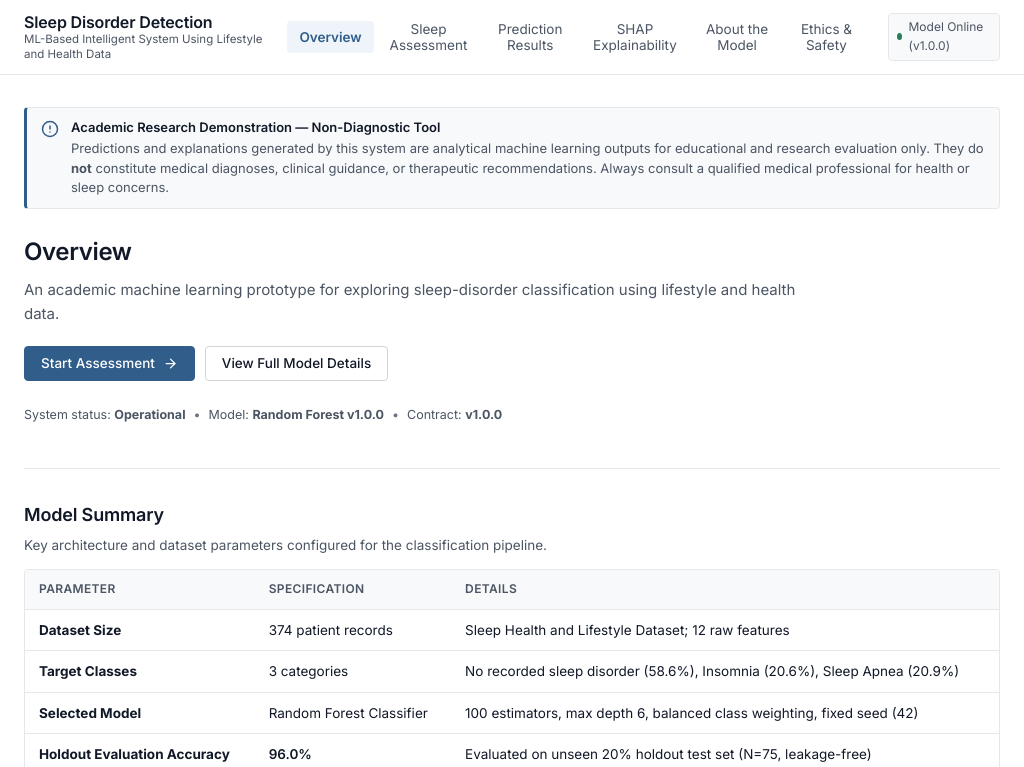
App Full Integration Tests › renders branding and navigates across all tabs smoothly
Expected: the heading "Sleep Disorder Detection" is shown, 24,12 -> 212,32
Expected: the text "ML-Based Intelligent System Using Lifestyle and Health Data" is shown, 24,32 -> 267,62
Test Navigation to Sleep Assessment Tab
Click the button "Sleep Assessment" at coordinates (428, 37), box 378,13 -> 479,61
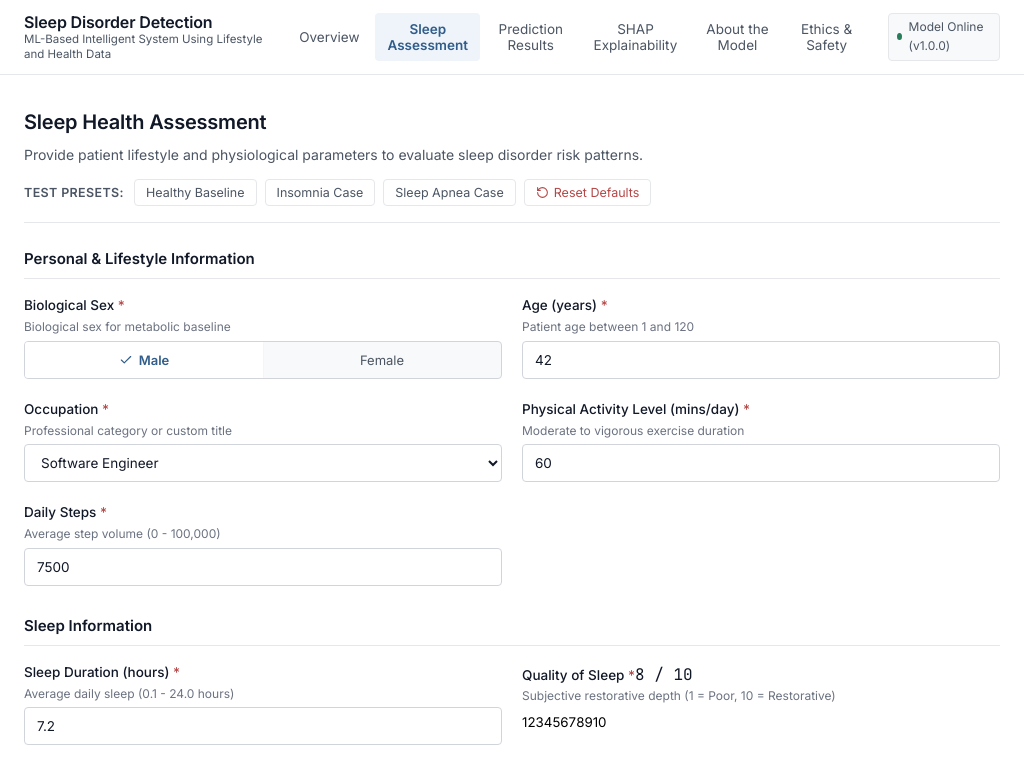
Now the heading "Sleep Health Assessment" is shown, box 24,110 -> 266,134
Test Navigation to About Model Tab
Click the button "About the Model" at coordinates (737, 37), box 693,13 -> 782,61
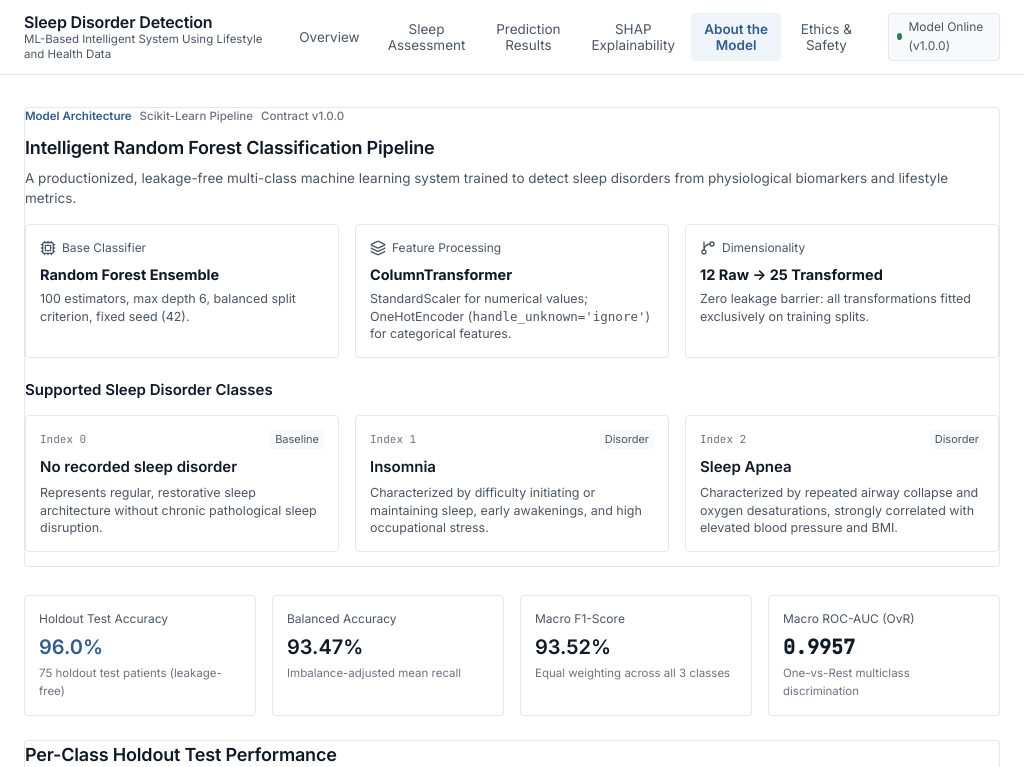
Now the heading "Intelligent Random Forest Classification Pipeline" is shown, box 25,137 -> 434,158
Now the text "Holdout Test Accuracy" is shown, box 39,611 -> 168,626
Test Navigation to Ethics & Safety Tab
Click the button "Ethics & Safety" at coordinates (826, 37), box 785,13 -> 868,61
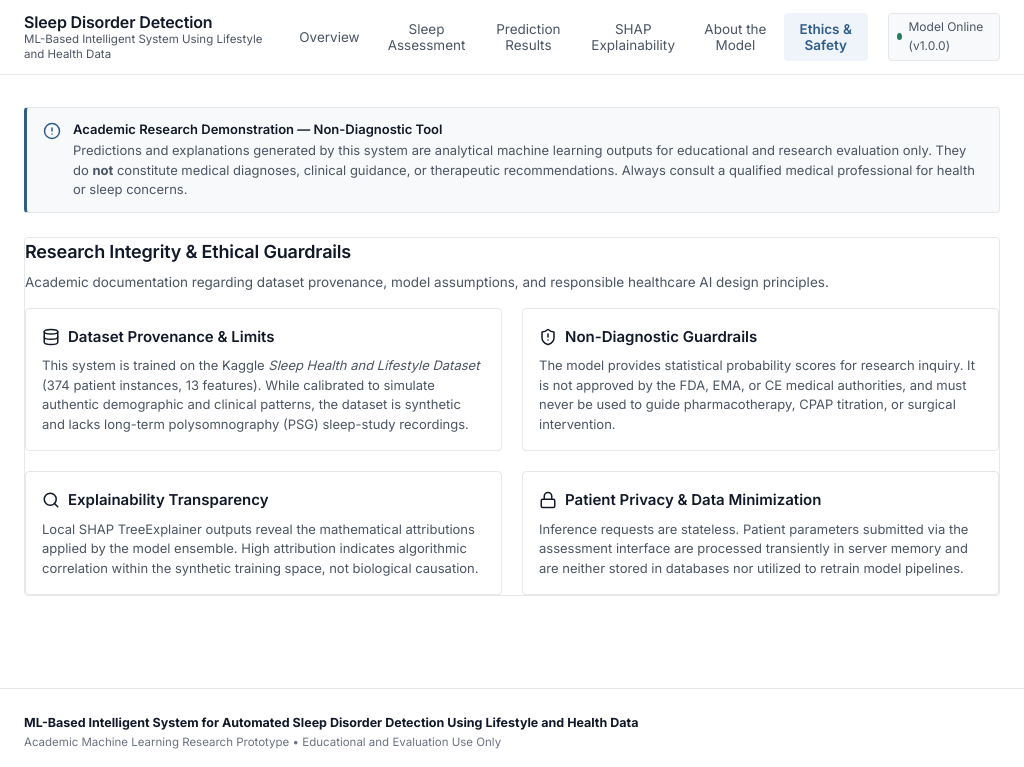
Now the heading "Research Integrity & Ethical Guardrails" is shown, box 25,241 -> 351,262
Return to Overview
Click the button "Overview" at coordinates (329, 37), box 287,21 -> 372,53
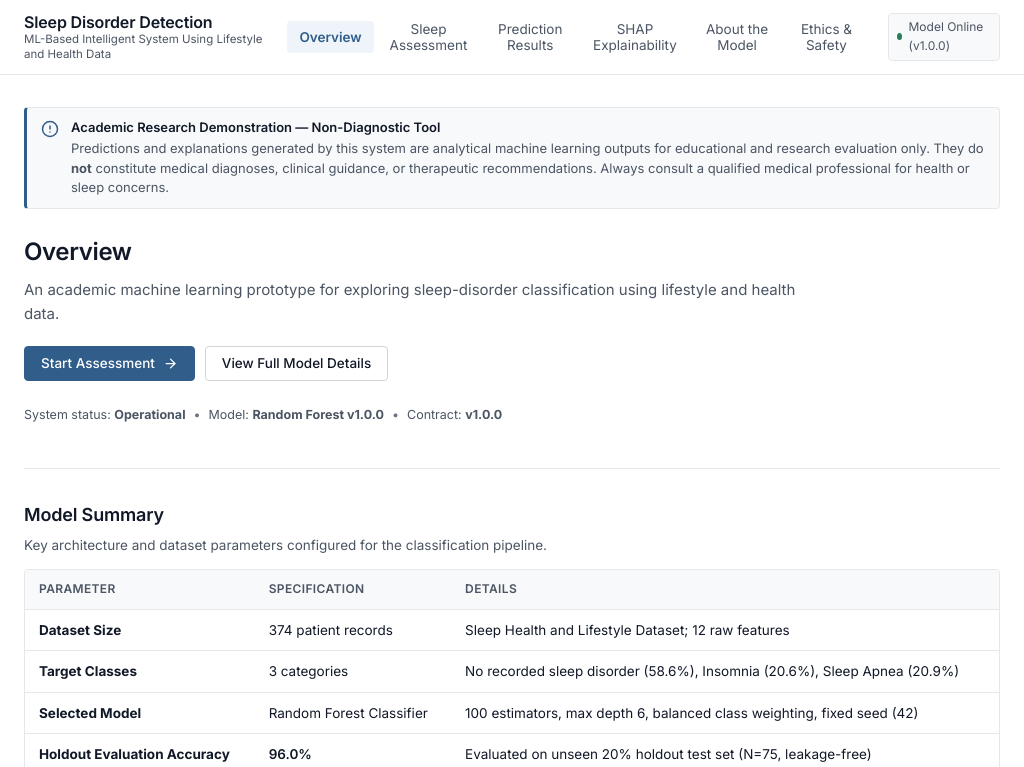
Now the heading "Overview" is shown, box 24,237 -> 132,266
